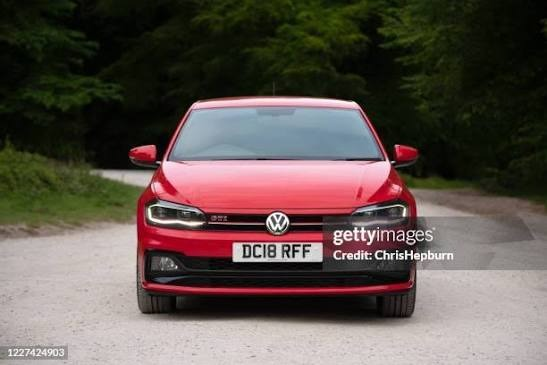car: (129, 100, 425, 315)
